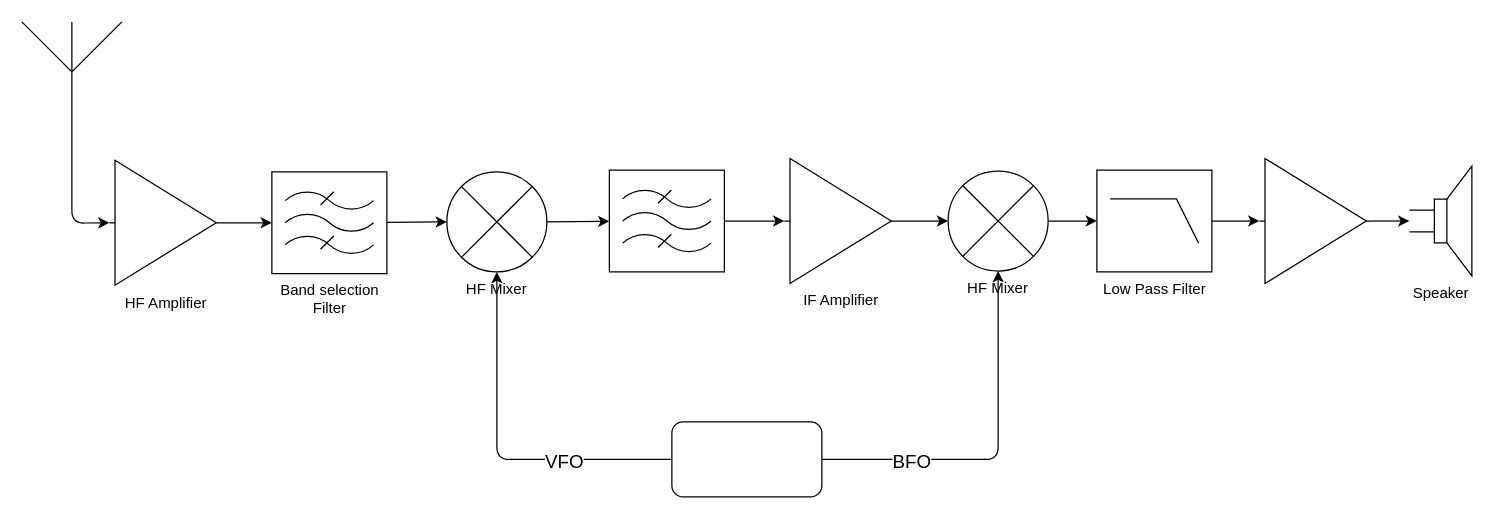
Image size: 1494x519. Some labels were removed from this diagram. Here are the shapes that lost their labels. From the top down, the centre of each, then its label:
[666,220]: IF Filter
[1315,220]: LF Amplifier
[746,459]: SI5153
